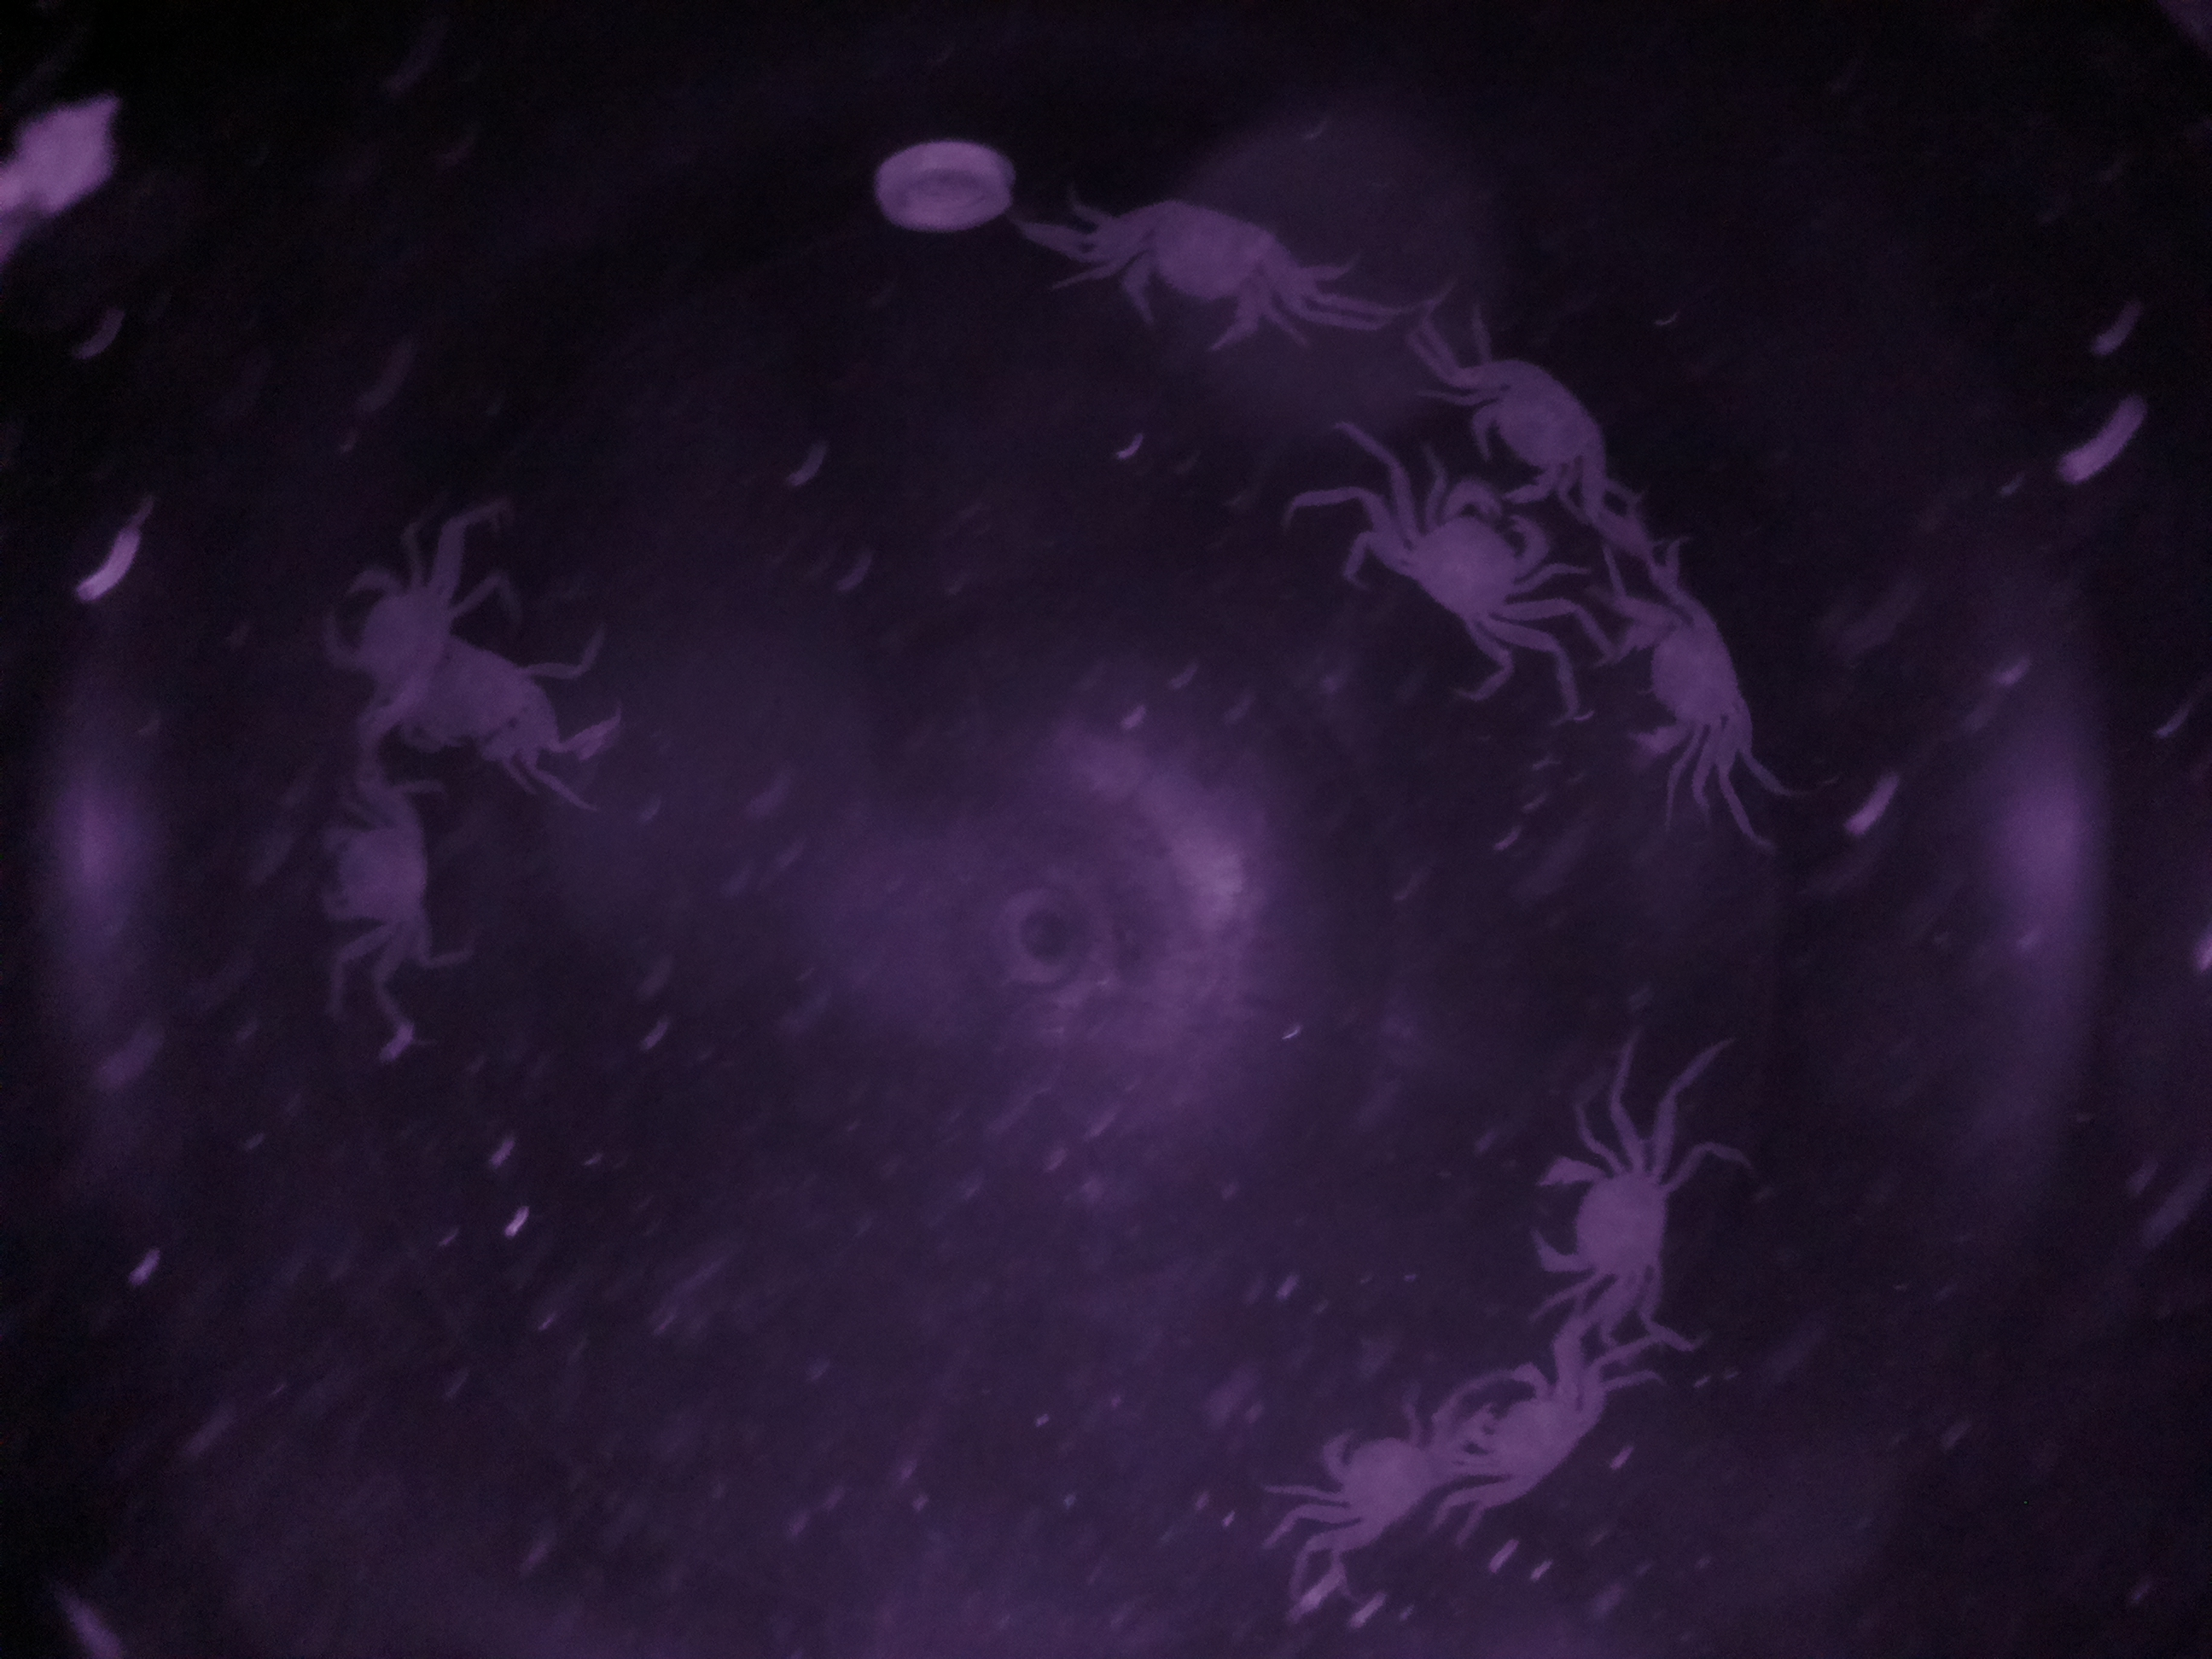Crab: (1440, 310, 1623, 523), (1097, 190, 1296, 375), (1602, 579, 1766, 775), (1383, 471, 1547, 650), (1519, 1121, 1679, 1303)
